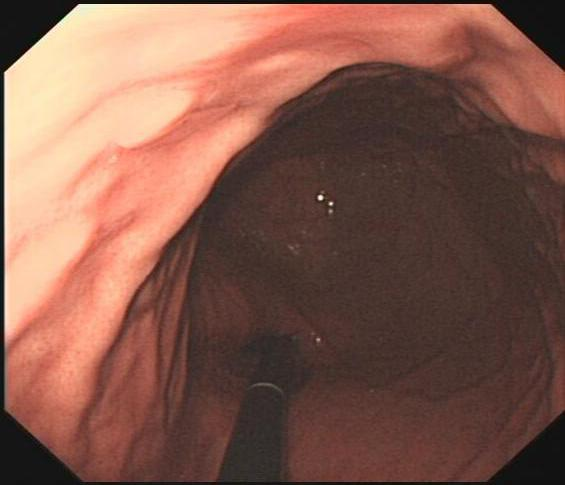Polyp: (108, 79, 203, 157)
